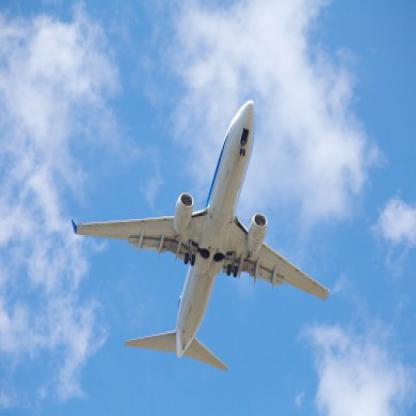CIV_Plane: (69, 92, 332, 382)
